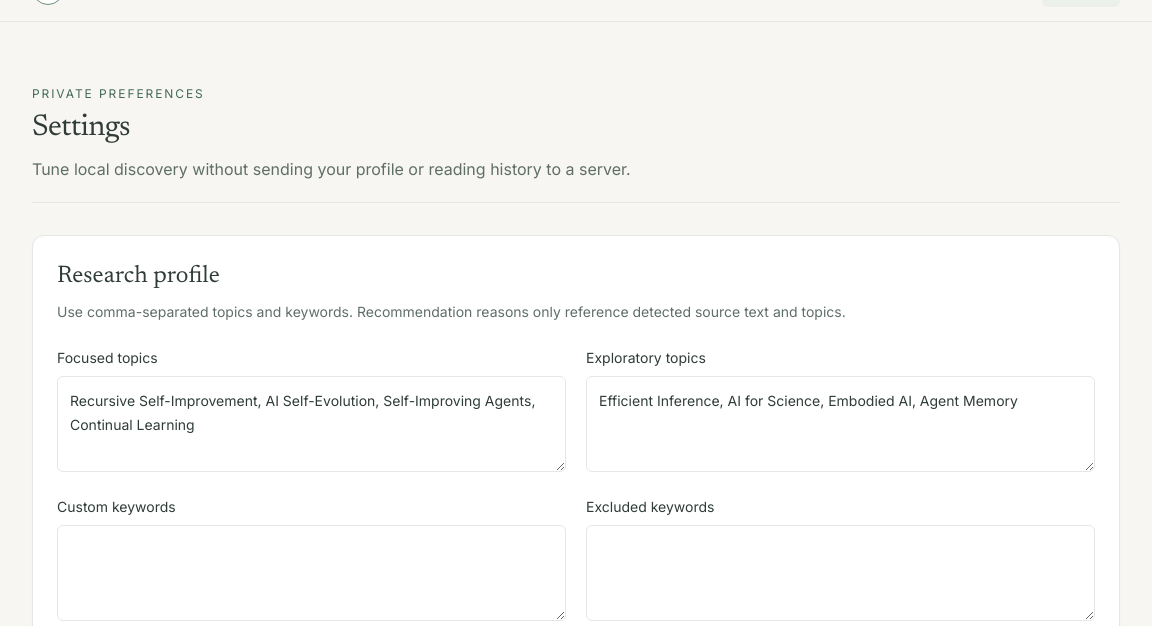
it: Settings research profile › adds a weight control as soon as a focused topic is edited
Replace the text in the text box labelled "Focused topics" with "Recursive Self-Improvement, Custom Lab Topic" at (312, 424), box [57,376,566,472]
(page scrolled)
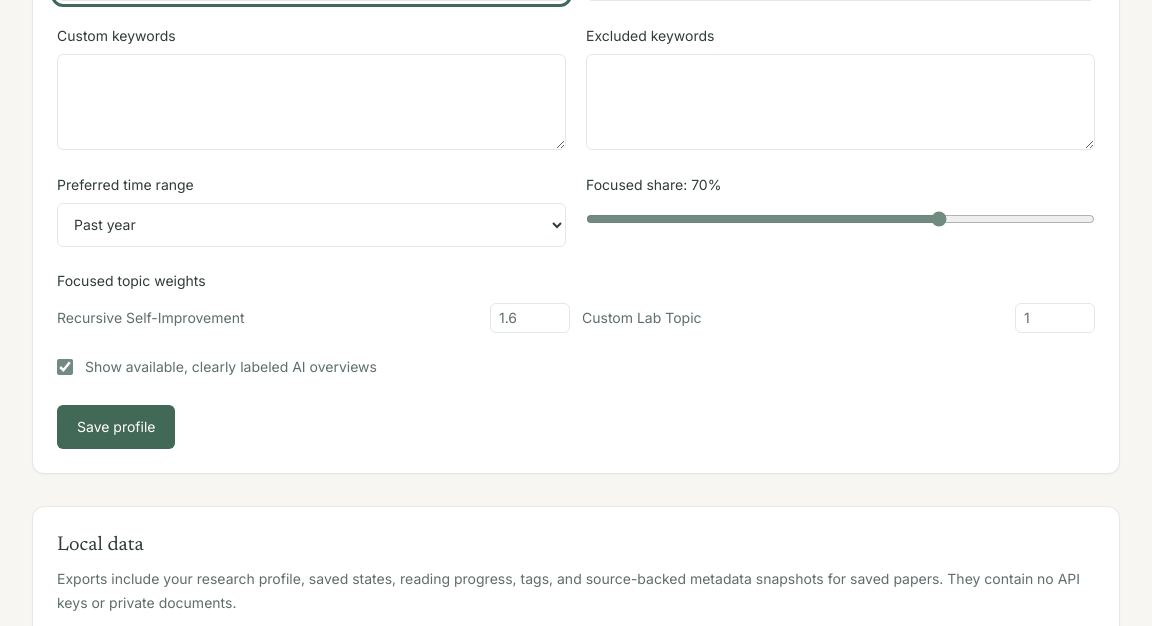
Check: the number field named "Custom Lab Topic weight" holds "1", box [1015,303,1095,333]
Replace the text in the number field named "Recursive Self-Improvement weight" with "1.9" at (530, 318), box [490,303,570,333]
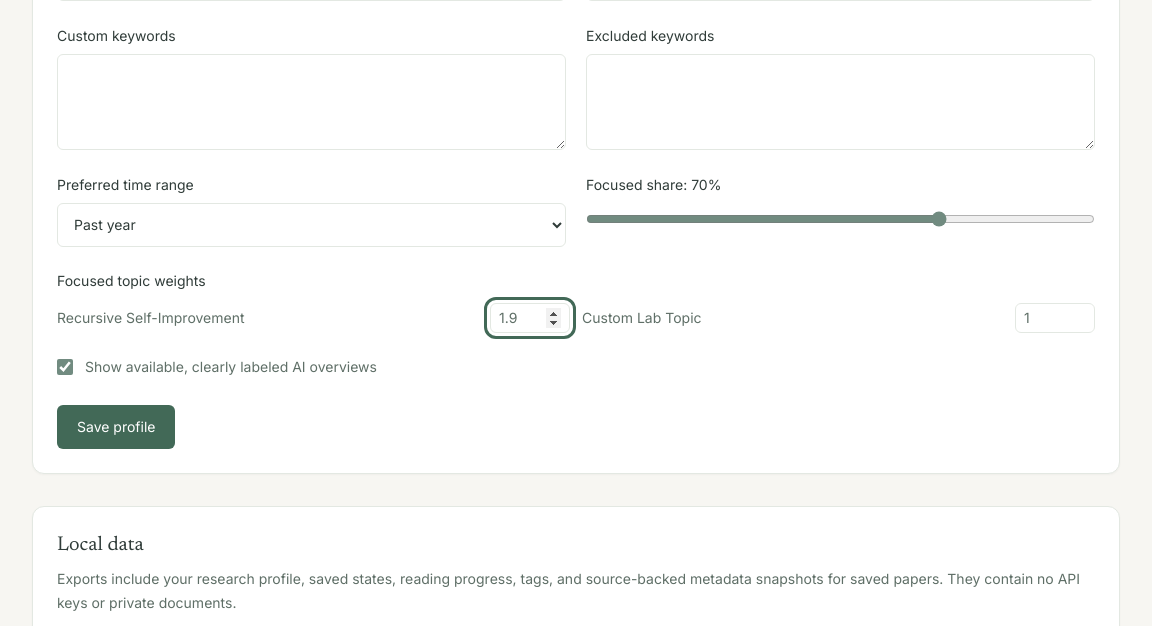
Click the button "Save profile" at (116, 427), box [57,405,176,449]
(page scrolled)
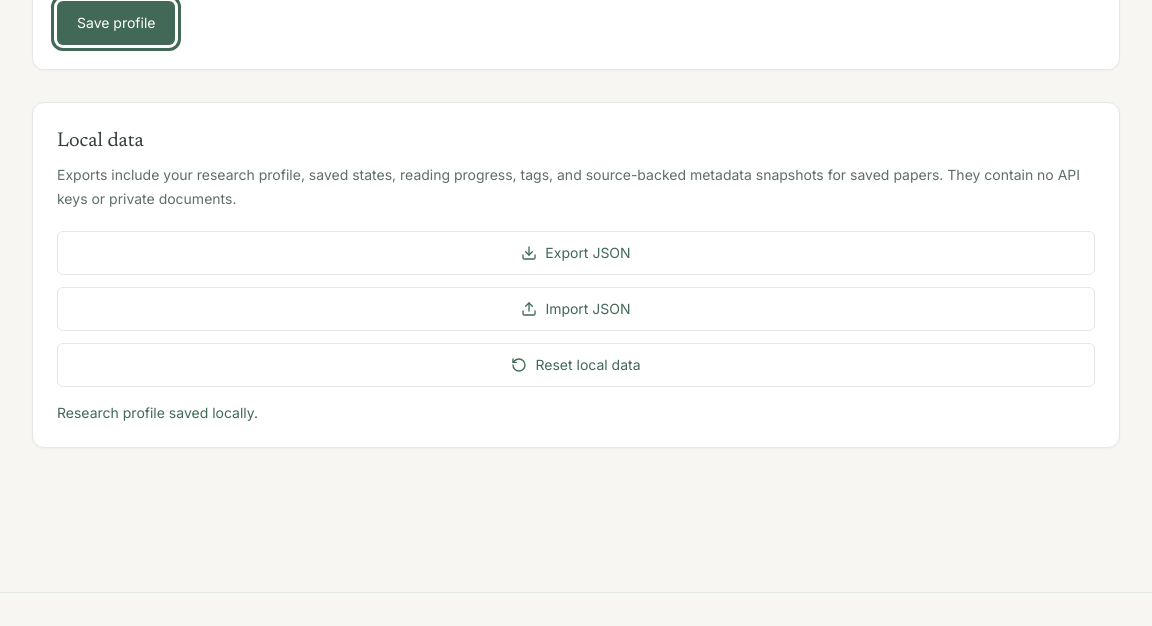
Check: the text "Research profile saved locally." is shown, box [57,404,258,421]
